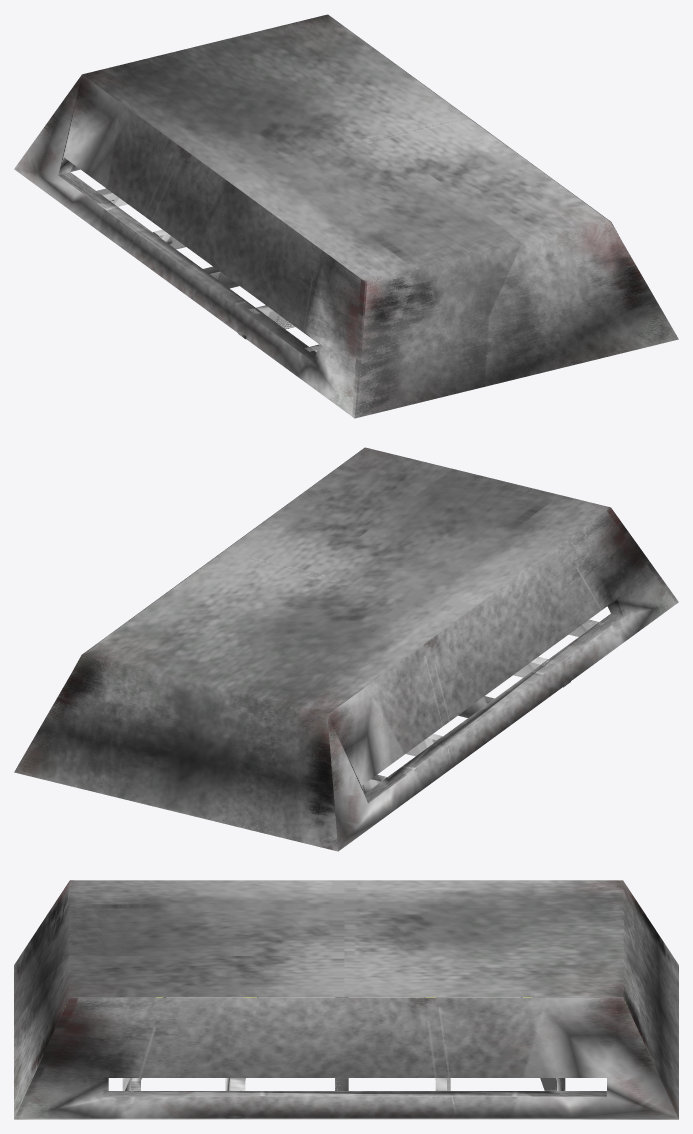
File: LightTopWorld.fbx
3 renders of one model, top to bottom at view 1: azimuth 30°, elevation 25°; view 2: azimuth 150°, elevation 25°; view 3: azimuth 270°, elevation 25°, orthographic. The views are drawn at different scales.
Parts seen in each view (by area): view 1: polySurface20; view 2: polySurface20; view 3: polySurface20.
Part boxes in pixels (x1,y1,x2,y2): polySurface20: (14, 14, 678, 418); polySurface20: (14, 447, 678, 851); polySurface20: (14, 880, 678, 1119).
Bounding box in the file's own units: 132 × 41.41 × 240.
